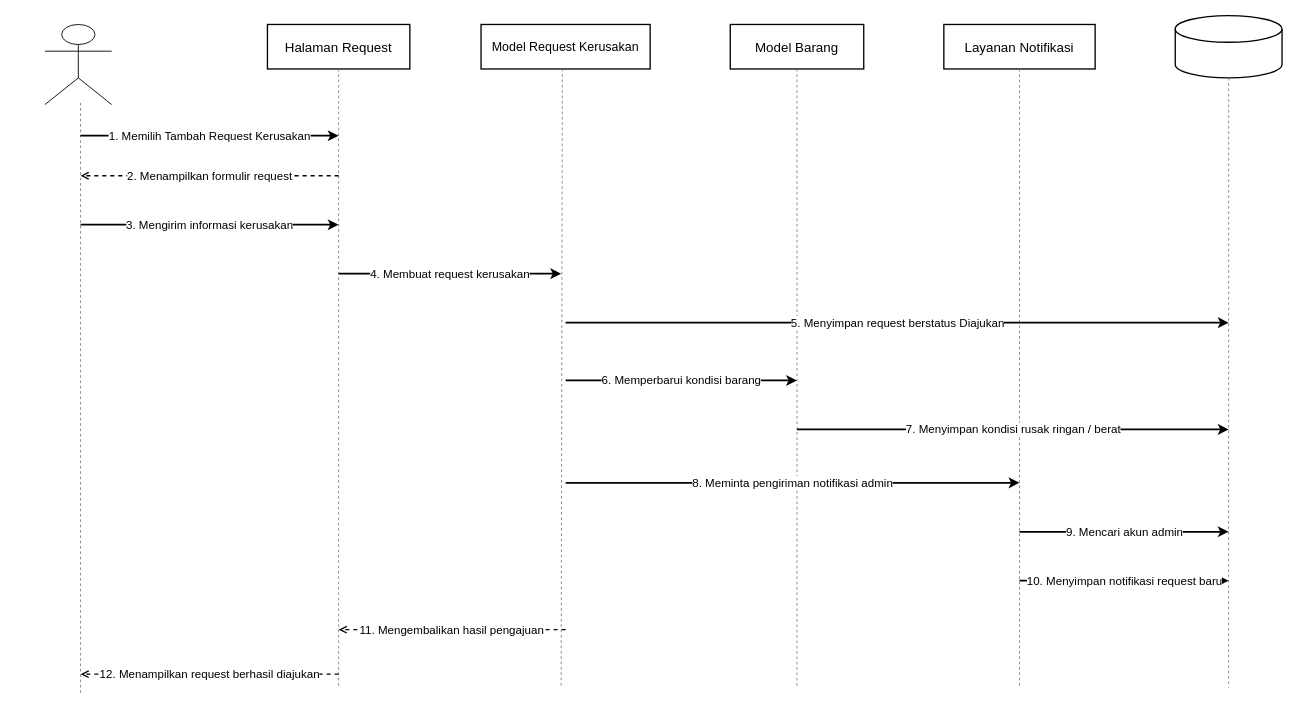
The diagram is 1299 pixels wide and 712 high, and some of its shapes have lost their labels. The box of each missing label's shape, as (x1, y1, x2, y2) in pixels:
Admin / Staff (Pelapor): (44, 24, 112, 105)
Database: (1174, 15, 1282, 78)
